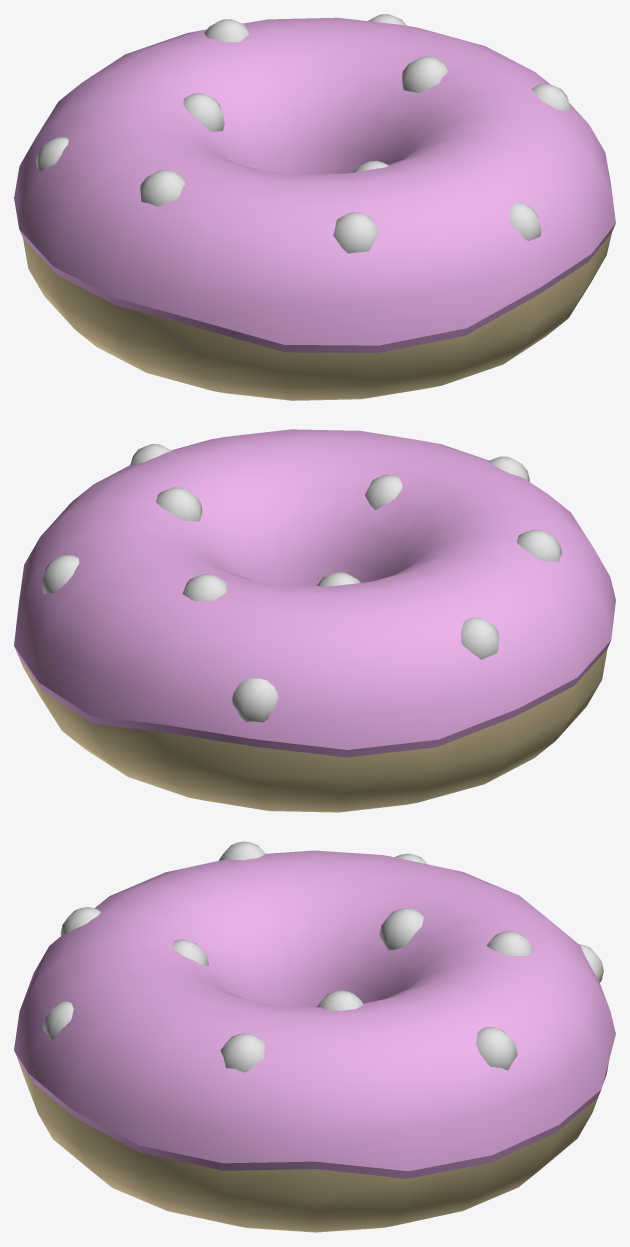
The model's file is SM_Donut.fbx.
3 renders of one model, top to bottom at view 1: azimuth 30°, elevation 25°; view 2: azimuth 150°, elevation 25°; view 3: azimuth 270°, elevation 25°, orthographic.
Visible parts, largest first — view 1: pSphere50; view 2: pSphere50; view 3: pSphere50.
Part boxes in pixels (box(x1,y1,x2,y2)): pSphere50: box(14, 14, 615, 400); pSphere50: box(14, 429, 615, 812); pSphere50: box(14, 841, 615, 1232).
Size of the model in its own units: 66.85 by 26.47 by 66.85.
